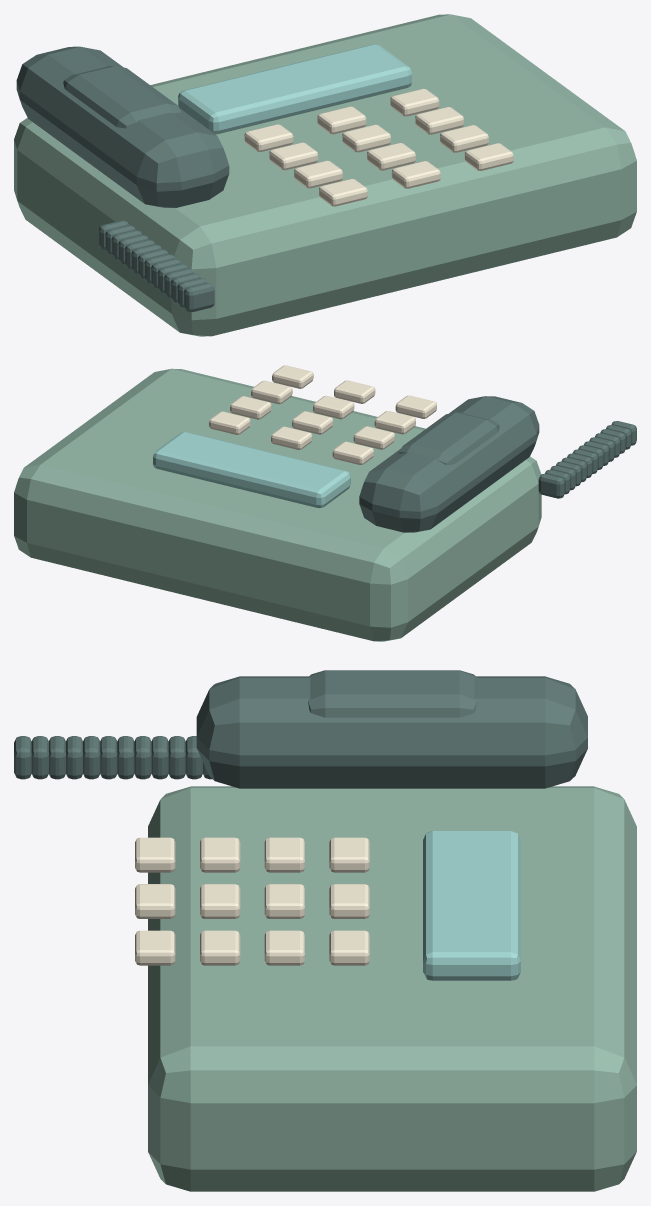
Rendered from phone.glb.
The picture shows the model from 3 angles, top to bottom: view 1: azimuth 30°, elevation 25°; view 2: azimuth 150°, elevation 25°; view 3: azimuth 270°, elevation 25°; orthographic projection. The views are drawn at different scales.
Parts seen in each view (by area): view 1: phone; view 2: phone; view 3: phone.
Part boxes in pixels (left/top/right/bottom): phone: left=14, top=14, right=636, bottom=336; phone: left=14, top=365, right=636, bottom=641; phone: left=14, top=670, right=636, bottom=1191.
Size of the model in its own units: 0.6325 by 0.225 by 0.5095.
